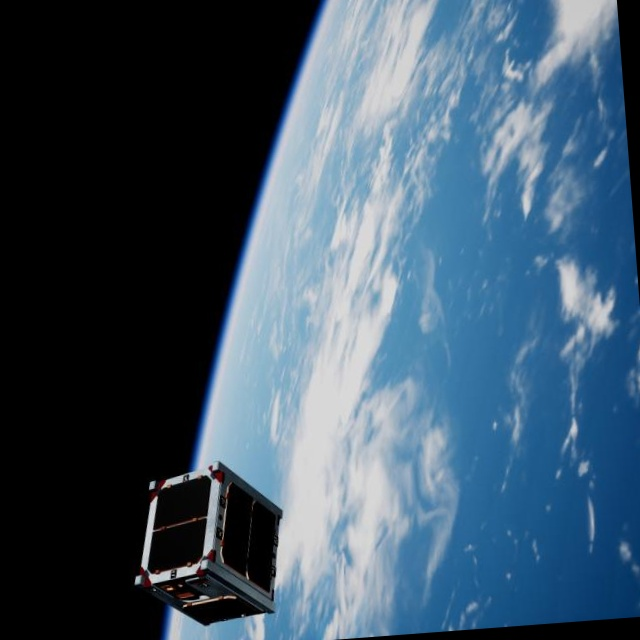medium_debris: (125, 457, 294, 638)
